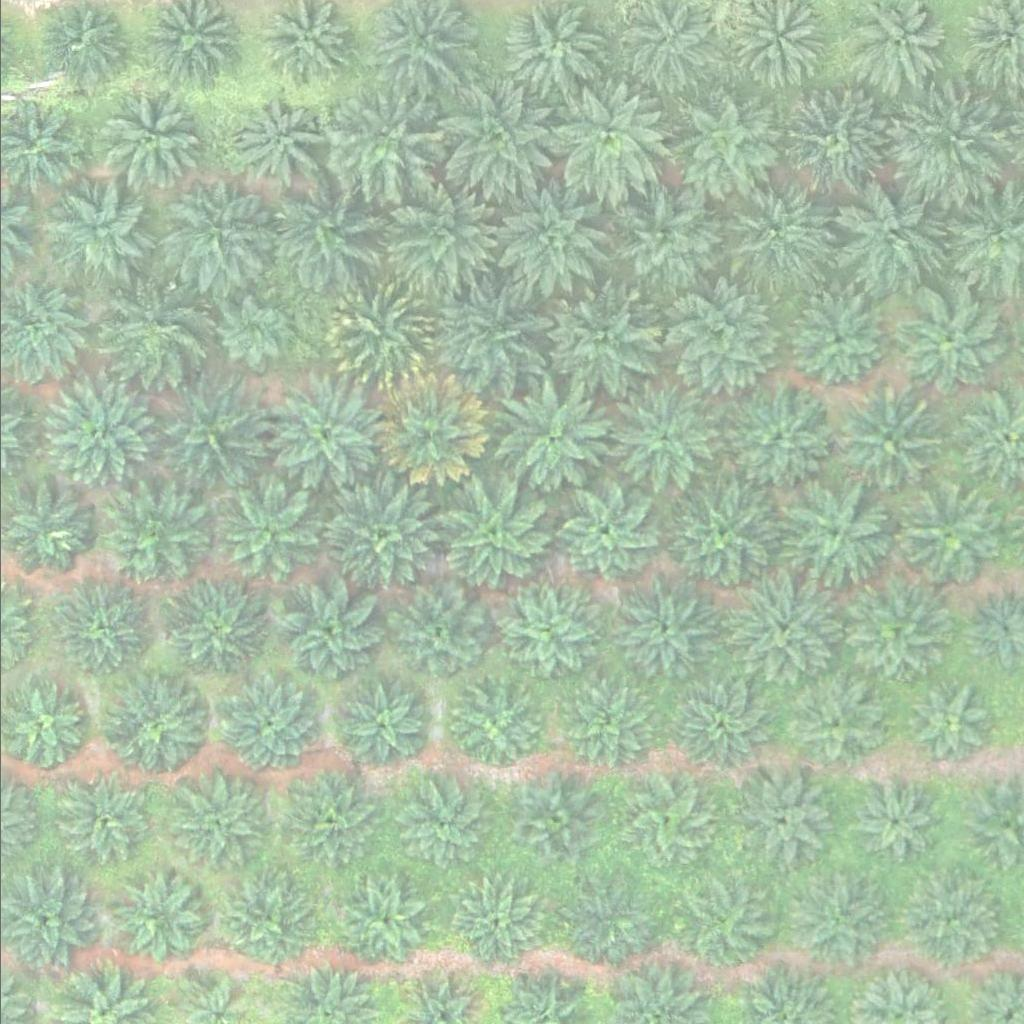Kelapa_Sawit: (32, 376, 146, 489), (893, 87, 1006, 200), (776, 88, 889, 201), (831, 181, 944, 294), (720, 175, 833, 288), (605, 183, 718, 296), (665, 283, 778, 396), (551, 286, 664, 399), (433, 285, 546, 398), (778, 476, 891, 589), (726, 574, 839, 687), (606, 577, 719, 690), (205, 478, 318, 591), (372, 374, 485, 487), (323, 276, 436, 389), (271, 376, 384, 489), (153, 373, 266, 486), (435, 83, 549, 195), (265, 177, 379, 289), (162, 181, 276, 293), (329, 86, 443, 198), (667, 83, 780, 195), (546, 82, 659, 194), (494, 185, 607, 297), (891, 288, 1004, 400), (825, 390, 938, 502), (719, 383, 832, 495), (600, 383, 713, 495), (494, 380, 607, 492), (660, 483, 773, 595), (436, 484, 549, 596), (323, 477, 436, 589), (379, 174, 492, 286), (786, 294, 887, 394), (552, 484, 653, 584), (557, 676, 658, 776), (905, 871, 1006, 971), (784, 876, 885, 976), (330, 871, 431, 971), (214, 872, 315, 972), (394, 777, 495, 877), (277, 774, 378, 874), (168, 773, 269, 873), (51, 772, 152, 872), (217, 673, 318, 773), (104, 678, 205, 778), (386, 583, 487, 683), (277, 581, 378, 681), (161, 579, 262, 679), (51, 581, 152, 681), (107, 489, 208, 589), (46, 180, 147, 280), (97, 89, 198, 189), (499, 1, 599, 101), (903, 486, 1003, 586), (843, 584, 943, 684), (785, 672, 885, 772), (737, 770, 837, 870), (676, 879, 776, 979), (556, 878, 656, 978), (103, 285, 203, 385), (848, 778, 936, 866), (626, 777, 714, 865), (507, 780, 595, 868), (451, 880, 539, 968), (501, 589, 589, 676), (677, 684, 765, 771), (115, 875, 203, 962), (448, 680, 536, 767), (333, 683, 421, 770), (232, 99, 320, 186), (912, 688, 988, 763), (216, 294, 292, 369)
